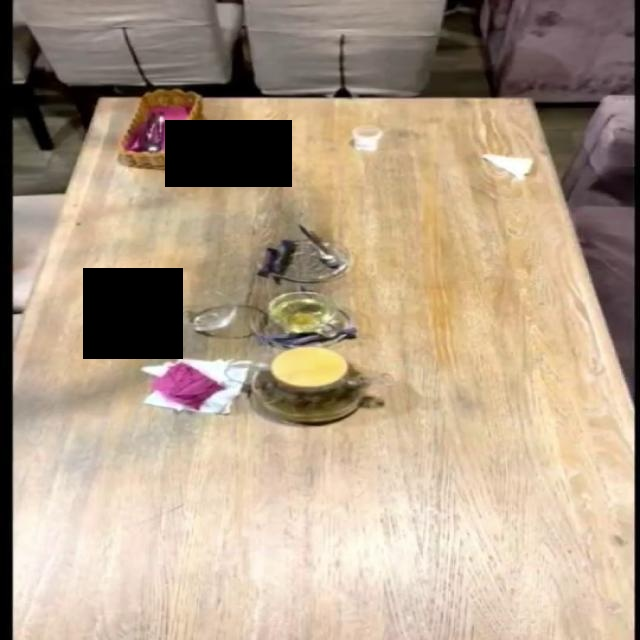tea: (250, 345, 370, 424)
